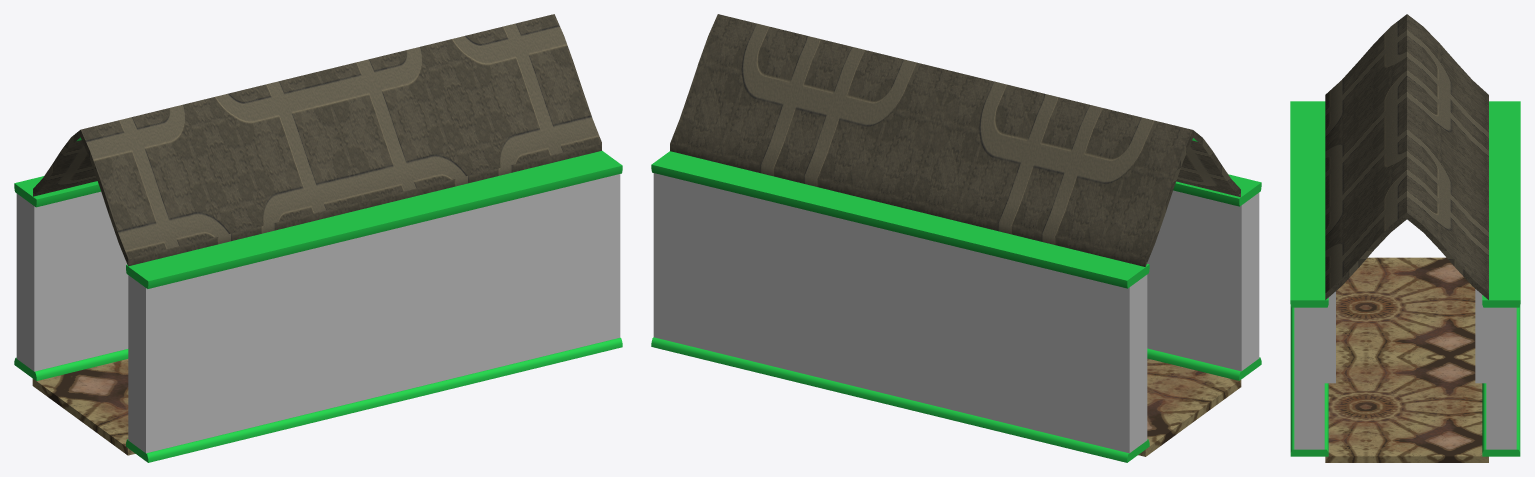
The model's file is Basic Hallway 05.fbx.
3 renders of one model, left to right at view 1: azimuth 30°, elevation 25°; view 2: azimuth 150°, elevation 25°; view 3: azimuth 270°, elevation 25°, orthographic. The views are drawn at different scales.
Parts seen in each view (by area): view 1: Plane_001; view 2: Plane_001; view 3: Plane_001.
Boxes of the visible parts, x1,y1,x2,y2 form: Plane_001: (14,14,622,462); Plane_001: (651,14,1261,462); Plane_001: (1290,14,1520,462).
Size of the model in its own units: 1258 by 738 by 615.
